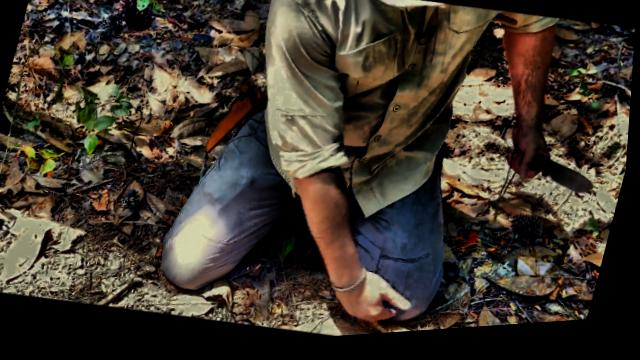knife: (499, 137, 610, 215)
